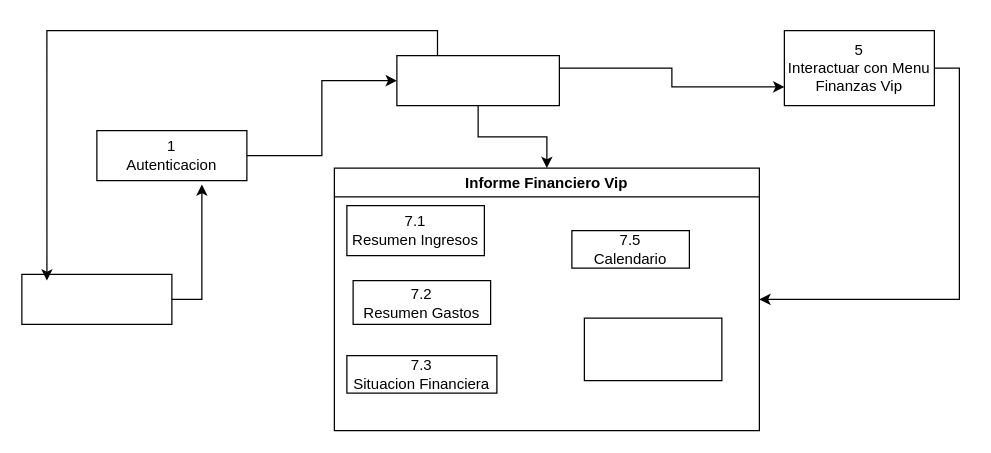
Image size: 991x453. Some labels were removed from this diagram. The shapes that lost their labels are listed below. From the top down, each one's centre as x and y in pixels, then its label:
At [477,80]: "3 Menu Vip".
At [96,298]: "Cliente Vip".
At [652,349]: "7.4 Rendimiento Financiero".
